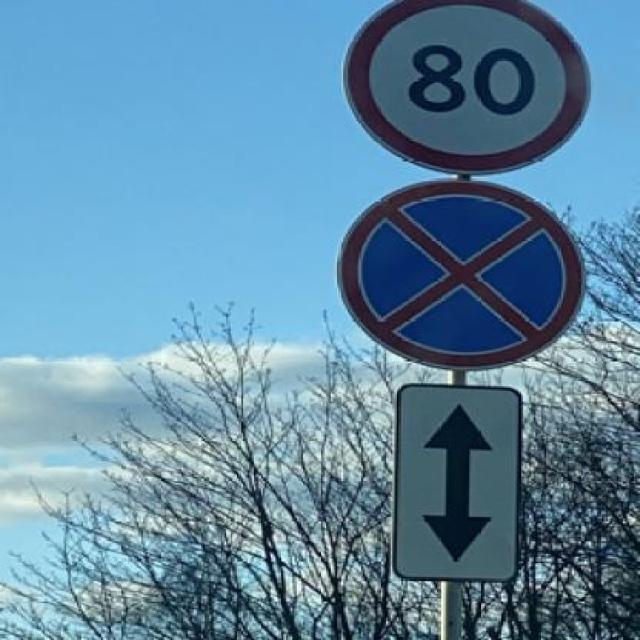forb_speed_over_80: (345, 1, 593, 173)
